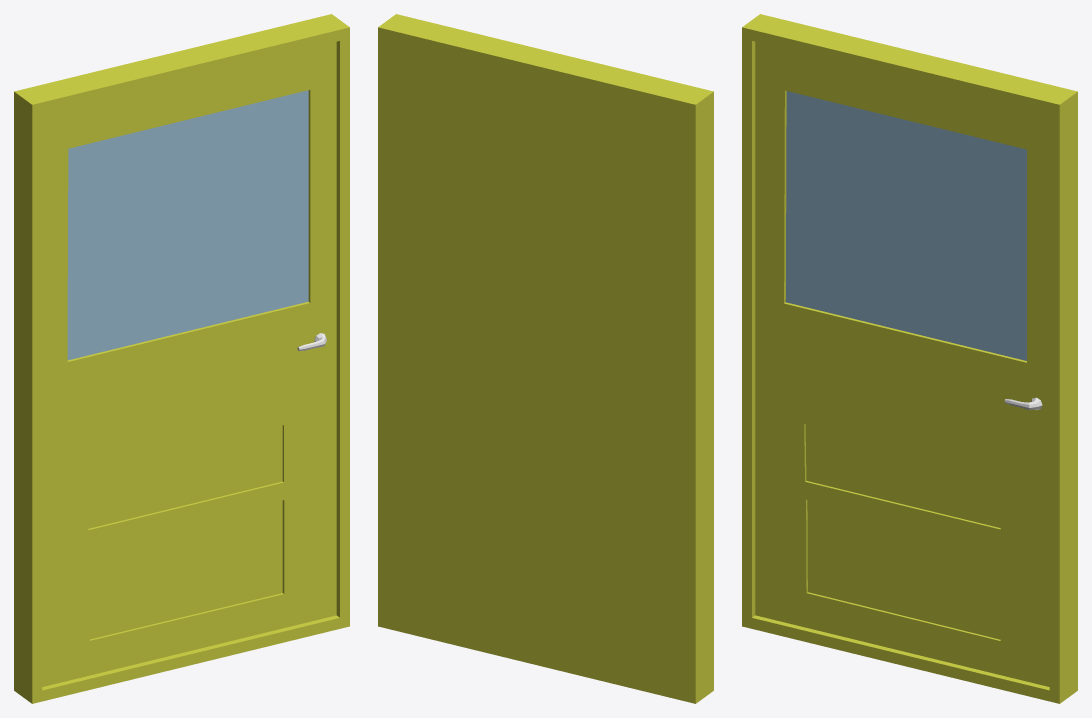
Rendered from Yellow Door.glb.
3 renders of one model, left to right at view 1: azimuth 30°, elevation 25°; view 2: azimuth 150°, elevation 25°; view 3: azimuth 330°, elevation 25°, orthographic.
Visible parts, largest first — view 1: Blue Door; view 2: Blue Door; view 3: Blue Door.
Boxes of the visible parts, left/top/right/bottom form: Blue Door: left=14, top=14, right=349, bottom=703; Blue Door: left=378, top=14, right=713, bottom=703; Blue Door: left=742, top=14, right=1077, bottom=703.
Bounding box in the file's own units: 2 × 3.6 × 0.2295.
